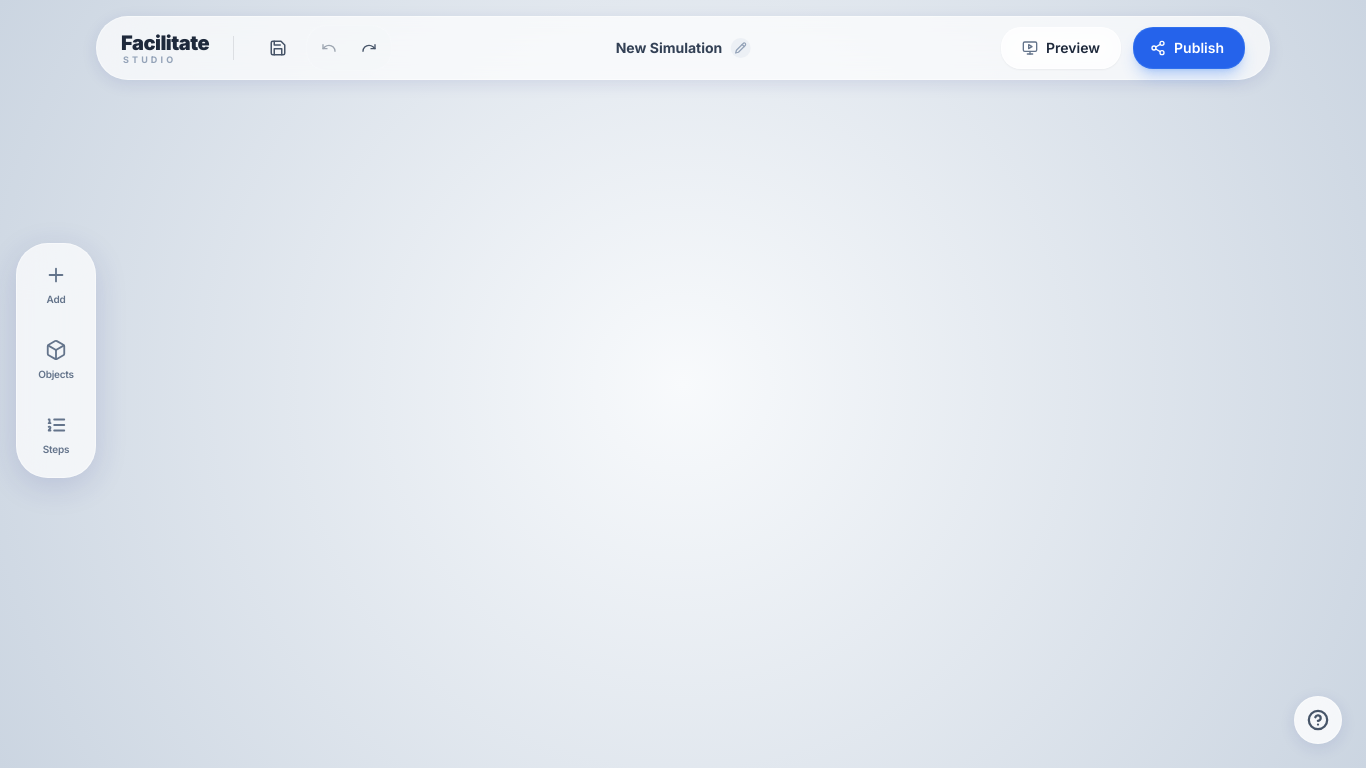
Test: App › opens Add panel when Add button is clicked
The width and height of the screenshot is (1366, 768).
Click the button "Add".
click(56, 285)  # box [25,252,87,318]
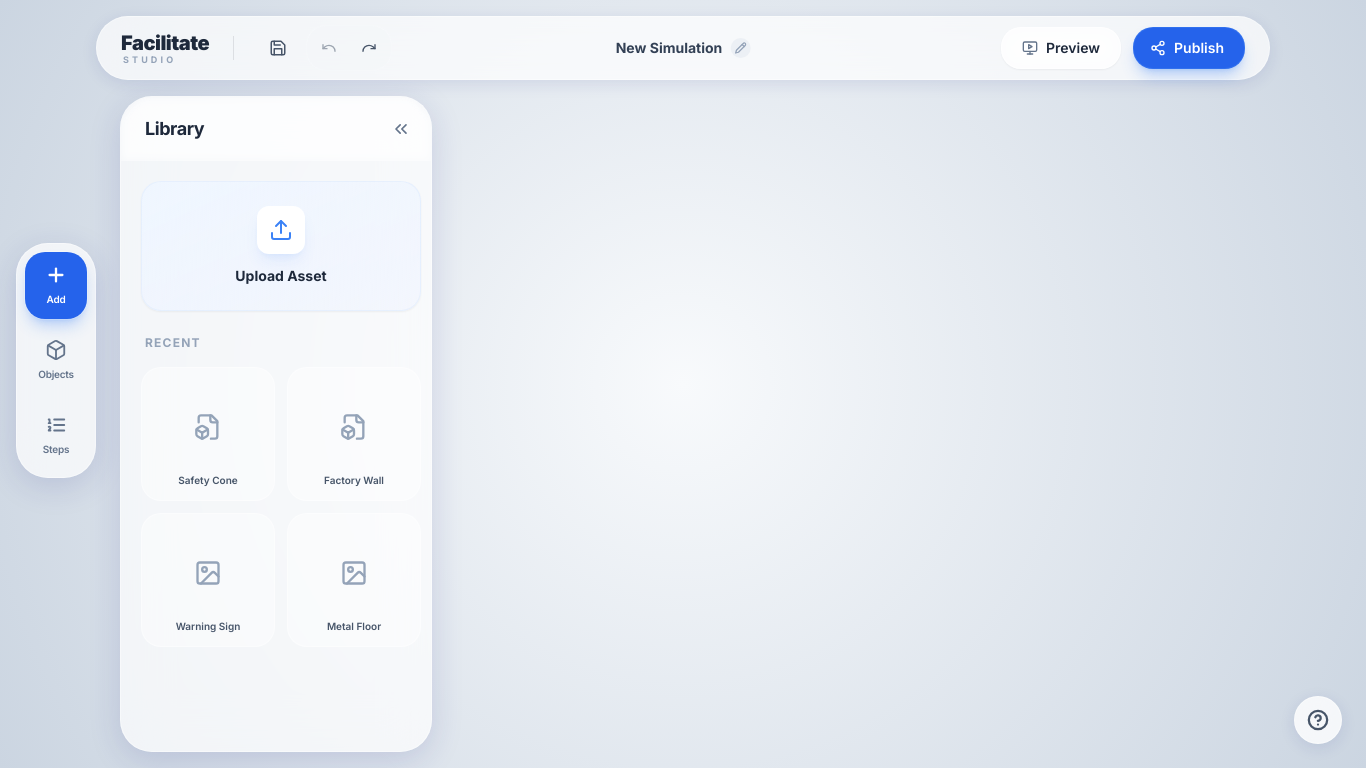
Expected: the heading "Library" is shown, [145,114,204,142]
